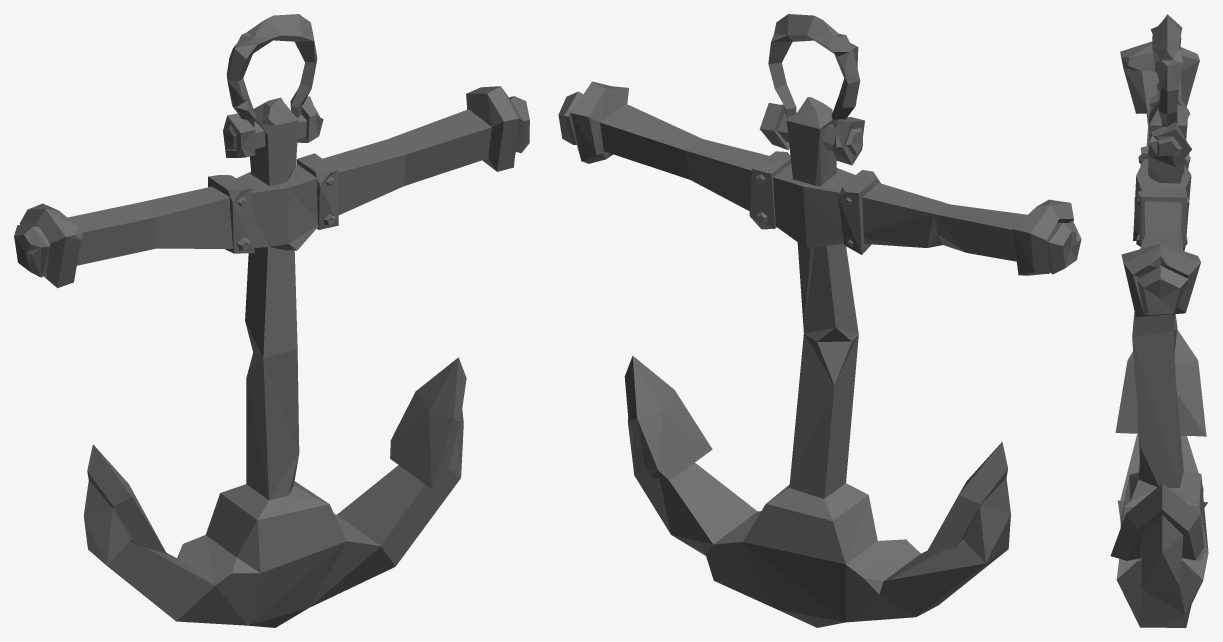
Rendered from Anchor.fbx.
3 views of the same model, side by side, from view 1: azimuth 30°, elevation 25°; view 2: azimuth 150°, elevation 25°; view 3: azimuth 270°, elevation 25° (orthographic). The views are drawn at different scales.
Visible parts, largest first — view 1: Anchor; view 2: Anchor; view 3: Anchor.
Boxes of the visible parts, left/top/right/bottom form: Anchor: left=14, top=14, right=529, bottom=627; Anchor: left=558, top=14, right=1081, bottom=627; Anchor: left=1110, top=14, right=1208, bottom=627.
Bounding box in the file's own units: 6.5 × 7.48 × 1.12.
